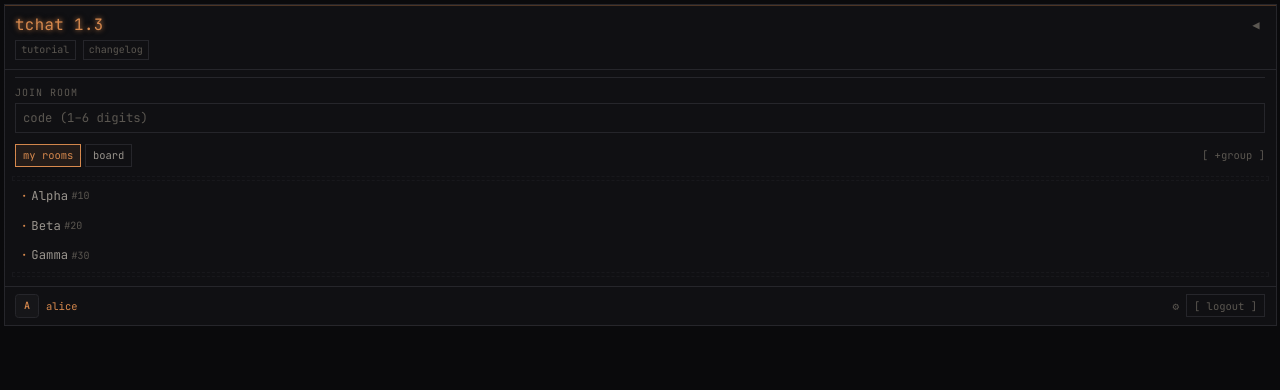
End-zone drop areas — non-admin on board tab › shows start and end drop zones for admin on board tab
Click the button with test id "tab-board": (109, 155) 85,144 -> 132,167
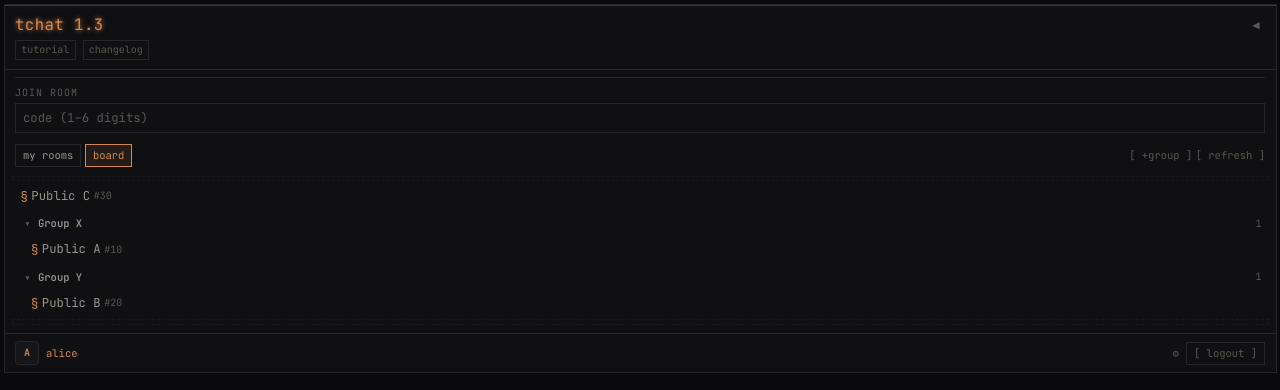
Now the button with test id "public-room-30" is shown, box 20,188 -> 112,204
